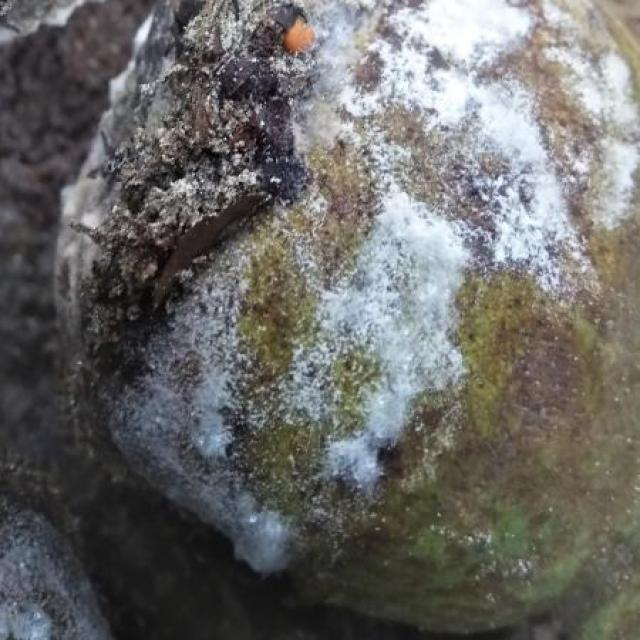Phytopthora: (58, 0, 640, 640)
